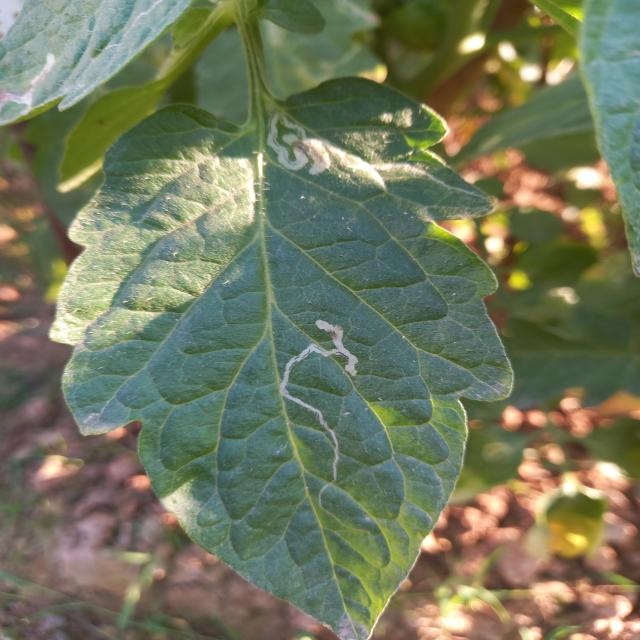Tuta absoluta: (265, 314, 363, 482), (252, 109, 347, 192)
